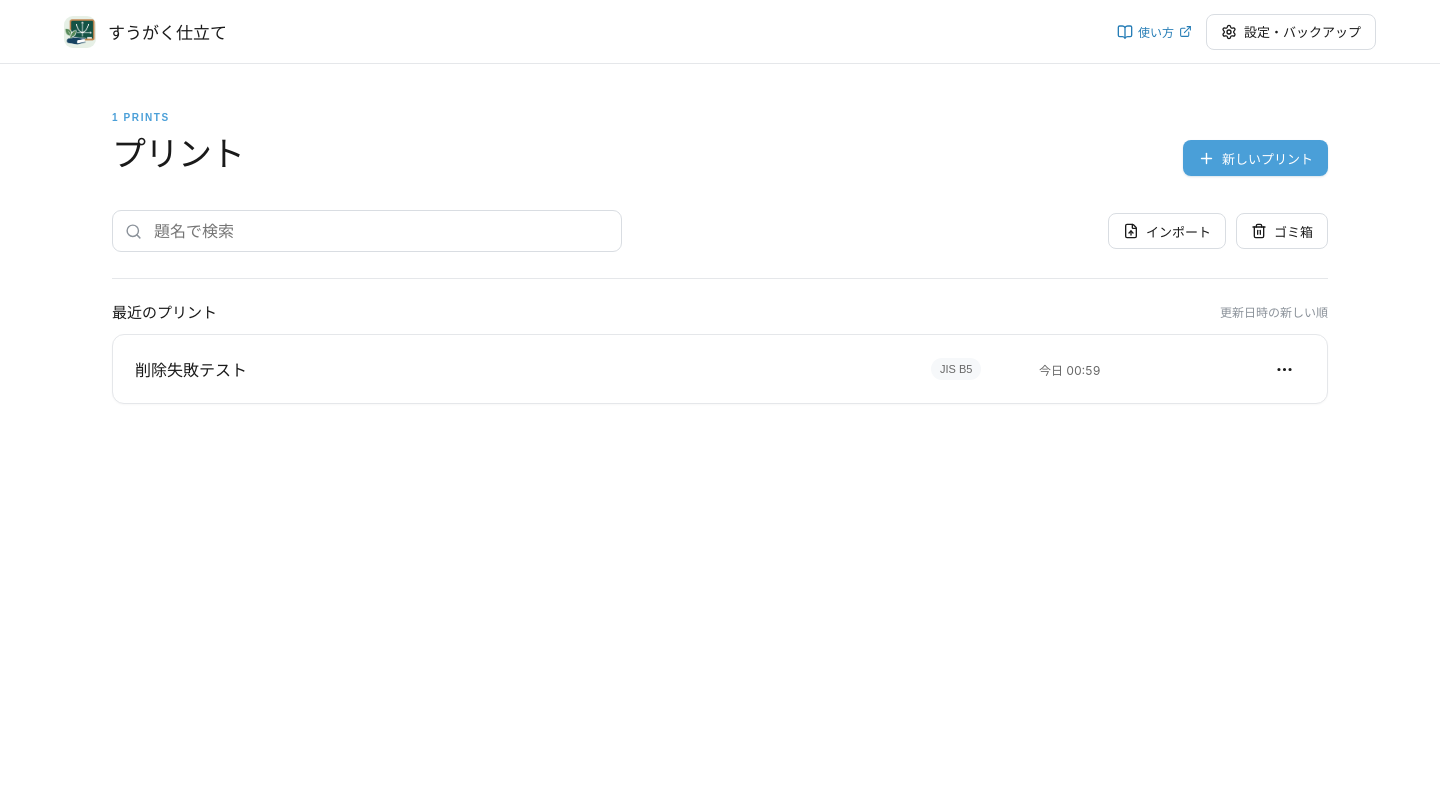
it: WorksheetListScreen › ゴミ箱移動の失敗を捕捉し、ダイアログから再実行できる
The image size is (1440, 810).
Click the button named "削除失敗テストのメニュー". click: (1284, 369)
box: [1267, 352, 1301, 386]
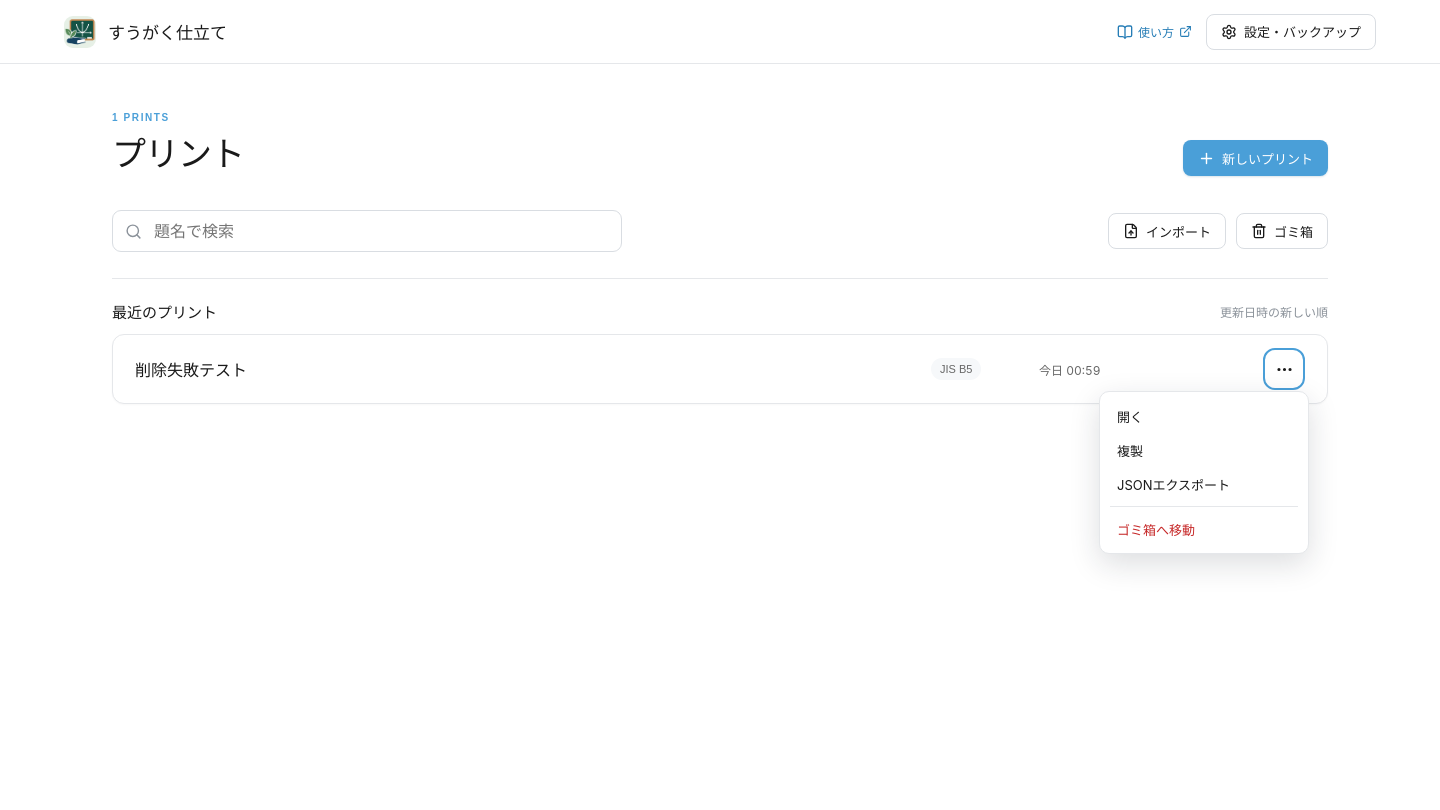
Click the button "ゴミ箱へ移動". click: (1204, 529)
box: [1107, 512, 1301, 546]
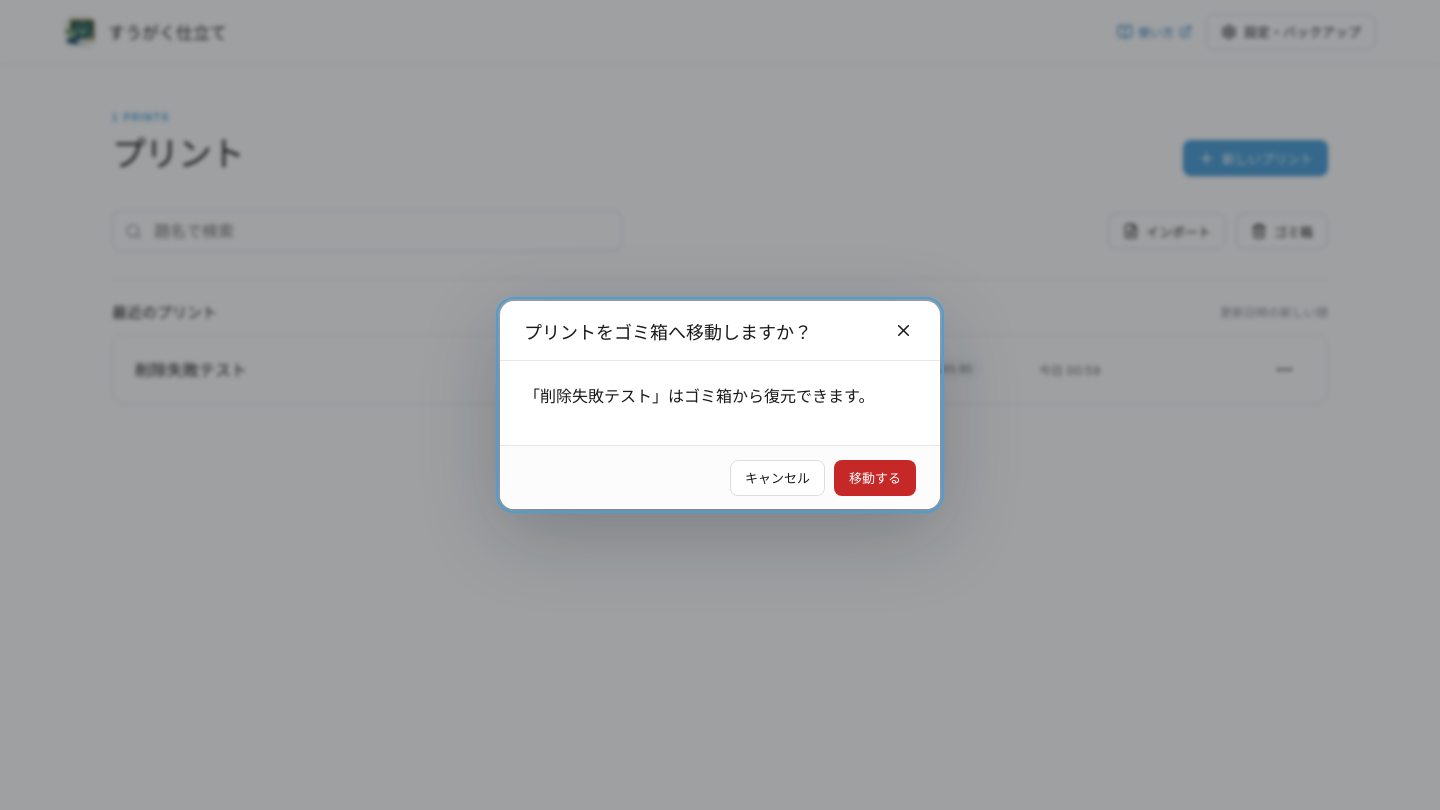
Click the button "移動する". click: (875, 478)
box: [834, 460, 916, 496]
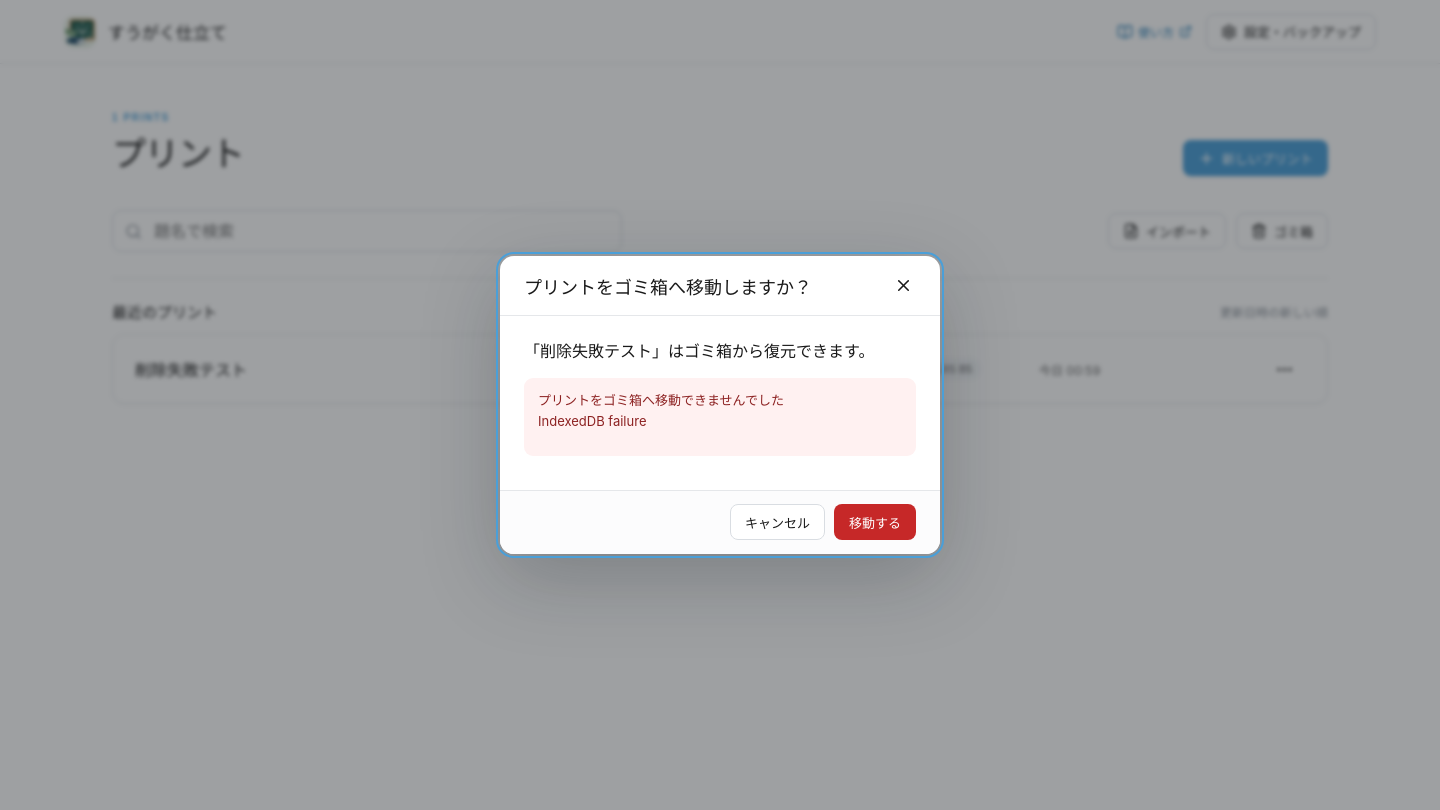
expect the button "移動する" is enabled: met, box [834, 504, 916, 540]
expect the message shows "IndexedDB failure": met, box [538, 412, 646, 428]
